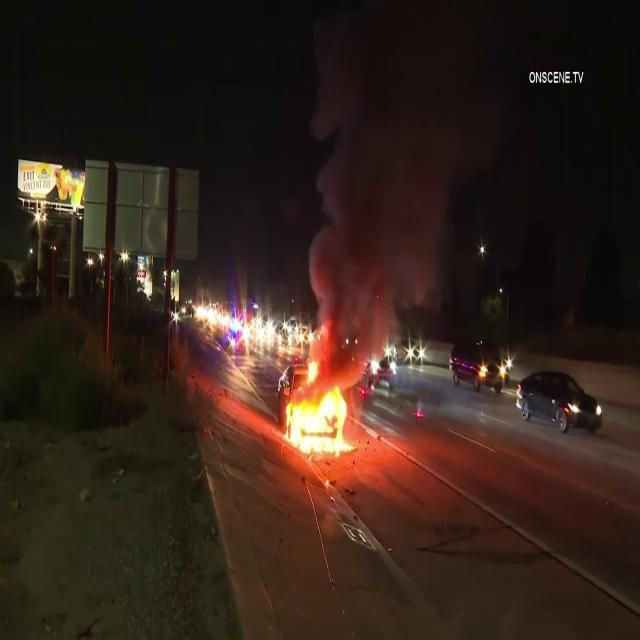Fire: (281, 358, 354, 460)
Smoke: (297, 0, 527, 345)
